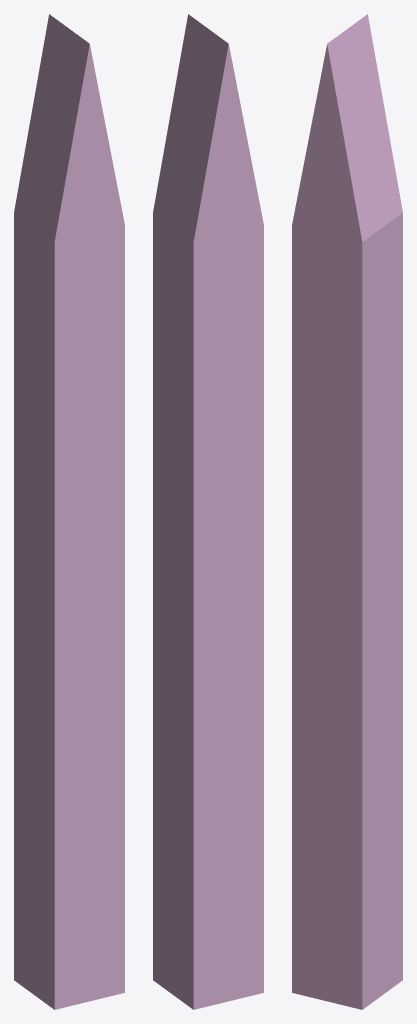
Rendered from pinkgrass.fbx.
3 views of the same model, side by side, from view 1: azimuth 30°, elevation 25°; view 2: azimuth 210°, elevation 25°; view 3: azimuth 330°, elevation 25° (orthographic).
Visible parts, largest first — view 1: GrassBase; view 2: GrassBase; view 3: GrassBase.
Part boxes in pixels (x1,y1,x2,y2): GrassBase: (14,14,124,1009); GrassBase: (153,14,263,1009); GrassBase: (292,14,402,1009).
Bounding box in the file's own units: 14 × 182 × 14.
